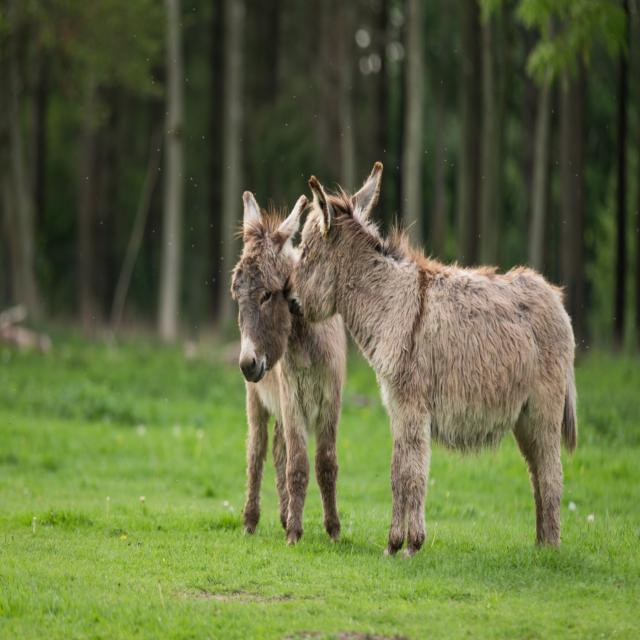Donkey: (294, 161, 570, 554), (233, 187, 340, 544)
